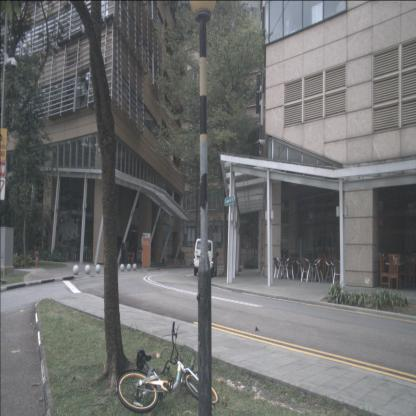human-pedestrian-adult: (136, 243, 142, 269), (121, 239, 125, 266)
vehicle-bicycle: (114, 321, 219, 413)
vehicle-car: (193, 238, 218, 277)
